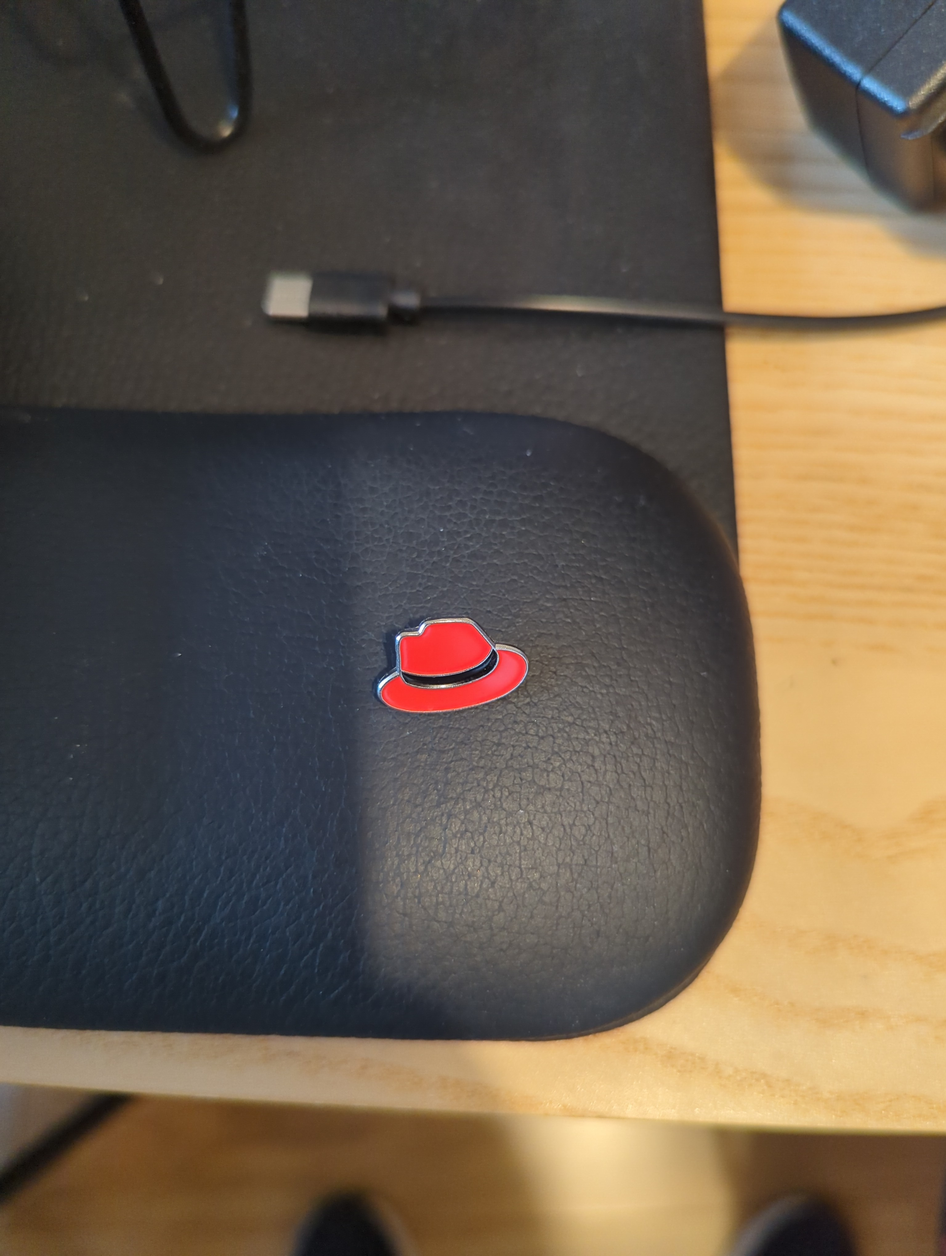Red-Hat: (318, 563, 632, 792)
